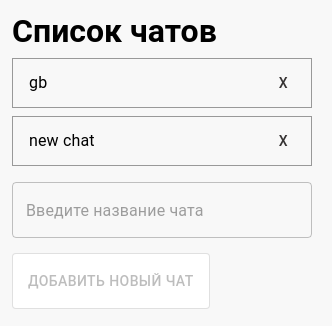
Scenario: ChatList › delete chat
This screenshot has width=332, height=326.
Click the 1st button "X".
click(283, 83)  # box left=271, top=65, right=296, bottom=101
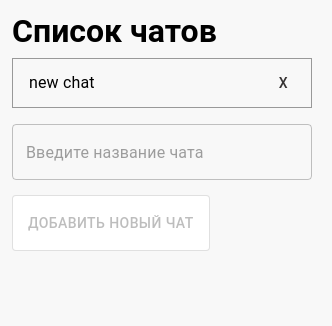
Expected: the number of list items is 1, left=12, top=58, right=312, bottom=108
